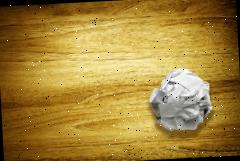paper: (147, 67, 213, 132)
